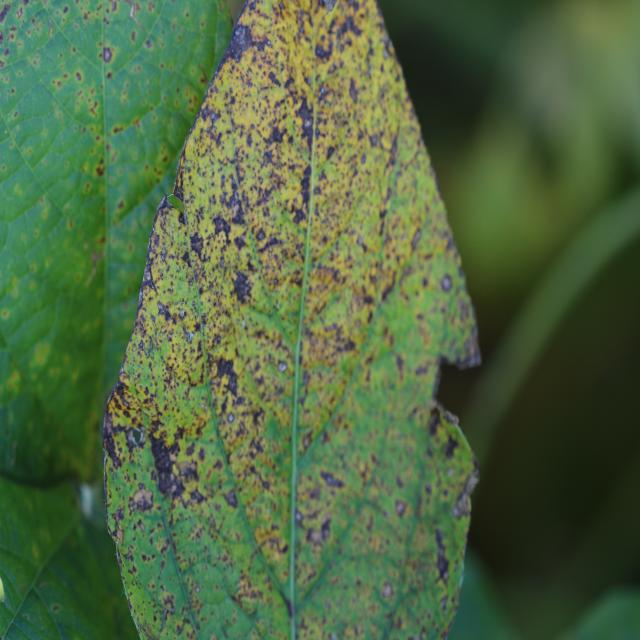Bacterial_Blight: (148, 430, 182, 494), (250, 162, 289, 212), (231, 267, 258, 308), (103, 423, 124, 467), (295, 97, 314, 144), (434, 526, 450, 581), (215, 356, 237, 388), (213, 214, 236, 243), (265, 118, 286, 144), (453, 490, 471, 519), (232, 24, 251, 50), (428, 405, 443, 437), (320, 470, 345, 489), (443, 432, 459, 459), (382, 276, 397, 301), (190, 234, 205, 257), (320, 515, 332, 540), (111, 506, 124, 529), (348, 77, 359, 103), (315, 41, 330, 60), (225, 487, 238, 508), (411, 227, 422, 247), (395, 499, 407, 517), (114, 381, 125, 397), (95, 159, 105, 176), (157, 301, 167, 317), (230, 175, 239, 191), (103, 47, 112, 62), (197, 446, 205, 461), (75, 71, 82, 81)
Soybean: (103, 0, 480, 640)
